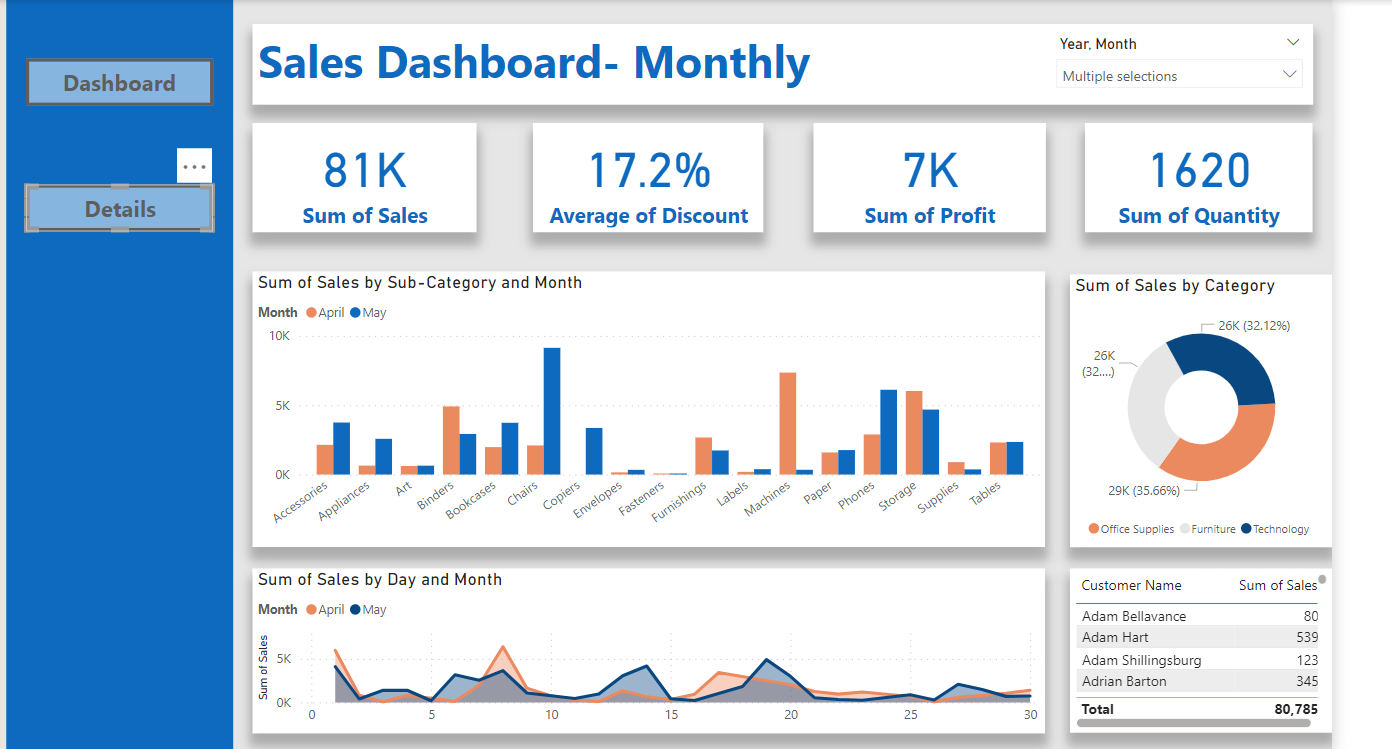

The dashboard page shown, as its layout file describes it:
{"tool":"powerbi","page":{"name":"Page 1","canvas":[1280,720],"ordinal":0},"visuals":[{"type":"shape","box":[9.4,0,217.1,719.3],"z":0},{"type":"textbox","box":[245.9,23.1,1015.8,77.4],"z":0,"group":"g1"},{"type":"slicer","fields":{"Values":["Sheet1.Order Month.Variation.Date Hierarchy.Year","Sheet1.Order Month.Variation.Date Hierarchy.Month"]},"box":[1005.2,29,255.7,70.8],"z":1000,"group":"g1"},{"type":"actionButton","box":[28.3,56.6,179.4,45.3],"z":1000},{"type":"card","fields":{"Values":["Sum(Sheet1.Profit)"]},"box":[782.8,117.6,222.4,104.8],"z":2000,"group":"g1"},{"type":"actionButton","box":[28.4,176.6,180.6,44.7],"z":2000},{"type":"group","id":"g1","title":"Group 1","box":[245.6,23.1,1035,679],"z":3000},{"type":"card","fields":{"Values":["Avg(Sheet1.Discount)"]},"box":[514.9,117.6,220.9,104.8],"z":3000,"group":"g1"},{"type":"card","fields":{"Values":["Sum(Sheet1.Sales)"]},"box":[245.6,117.6,214.9,104.8],"z":4000,"group":"g1"},{"type":"card","fields":{"Values":["Sum(Sheet1.Quantity)"]},"box":[1043,117.6,217.9,104.8],"z":5000,"group":"g1"},{"type":"clusteredColumnChart","fields":{"Category":["Sheet1.Sub-Category"],"Y":["Sum(Sheet1.Sales)"],"Series":["Sheet1.Order Month.Variation.Date Hierarchy.Month"]},"box":[245.6,260.8,759.6,264.2],"z":6000,"group":"g1"},{"type":"donutChart","fields":{"Y":["Sum(Sheet1.Sales)"],"Category":["Sheet1.Category"]},"box":[1029.4,263.7,251.2,261.3],"z":7000,"group":"g1"},{"type":"areaChart","fields":{"Category":["Sheet1.Order Month.Variation.Date Hierarchy.Day"],"Y":["Sum(Sheet1.Sales)"],"Series":["Sheet1.Order Month.Variation.Date Hierarchy.Month"]},"box":[245.6,544.2,759.6,157.9],"z":8000,"group":"g1"},{"type":"tableEx","fields":{"Values":["Sheet1.Customer Name","Sum(Sheet1.Sales)"]},"box":[1029.4,544.4,251.2,157.4],"z":9000,"group":"g1"}]}

Visuals, with their boxes in screenshot pixels (x1, y1, x2, y2):
shape: region(0, 4, 214, 717)
textbox: region(233, 27, 1240, 103)
slicer - Sheet1.Order Month.Variation.Date Hierarchy.Year x Sheet1.Order Month.Variation.Date Hierarchy.Month: region(986, 32, 1239, 103)
actionButton: region(17, 60, 195, 105)
card - Sum(Sheet1.Profit): region(765, 120, 986, 224)
actionButton: region(17, 179, 196, 223)
"Group 1" group: region(233, 27, 1259, 700)
card - Avg(Sheet1.Discount): region(500, 120, 719, 224)
card - Sum(Sheet1.Sales): region(233, 120, 446, 224)
card - Sum(Sheet1.Quantity): region(1023, 120, 1239, 224)
clusteredColumnChart - Sheet1.Sub-Category x Sum(Sheet1.Sales): region(233, 262, 986, 524)
donutChart - Sum(Sheet1.Sales) x Sheet1.Category: region(1010, 265, 1259, 524)
areaChart - Sheet1.Order Month.Variation.Date Hierarchy.Day x Sum(Sheet1.Sales): region(233, 543, 986, 700)
tableEx - Sheet1.Customer Name x Sum(Sheet1.Sales): region(1010, 543, 1259, 699)
